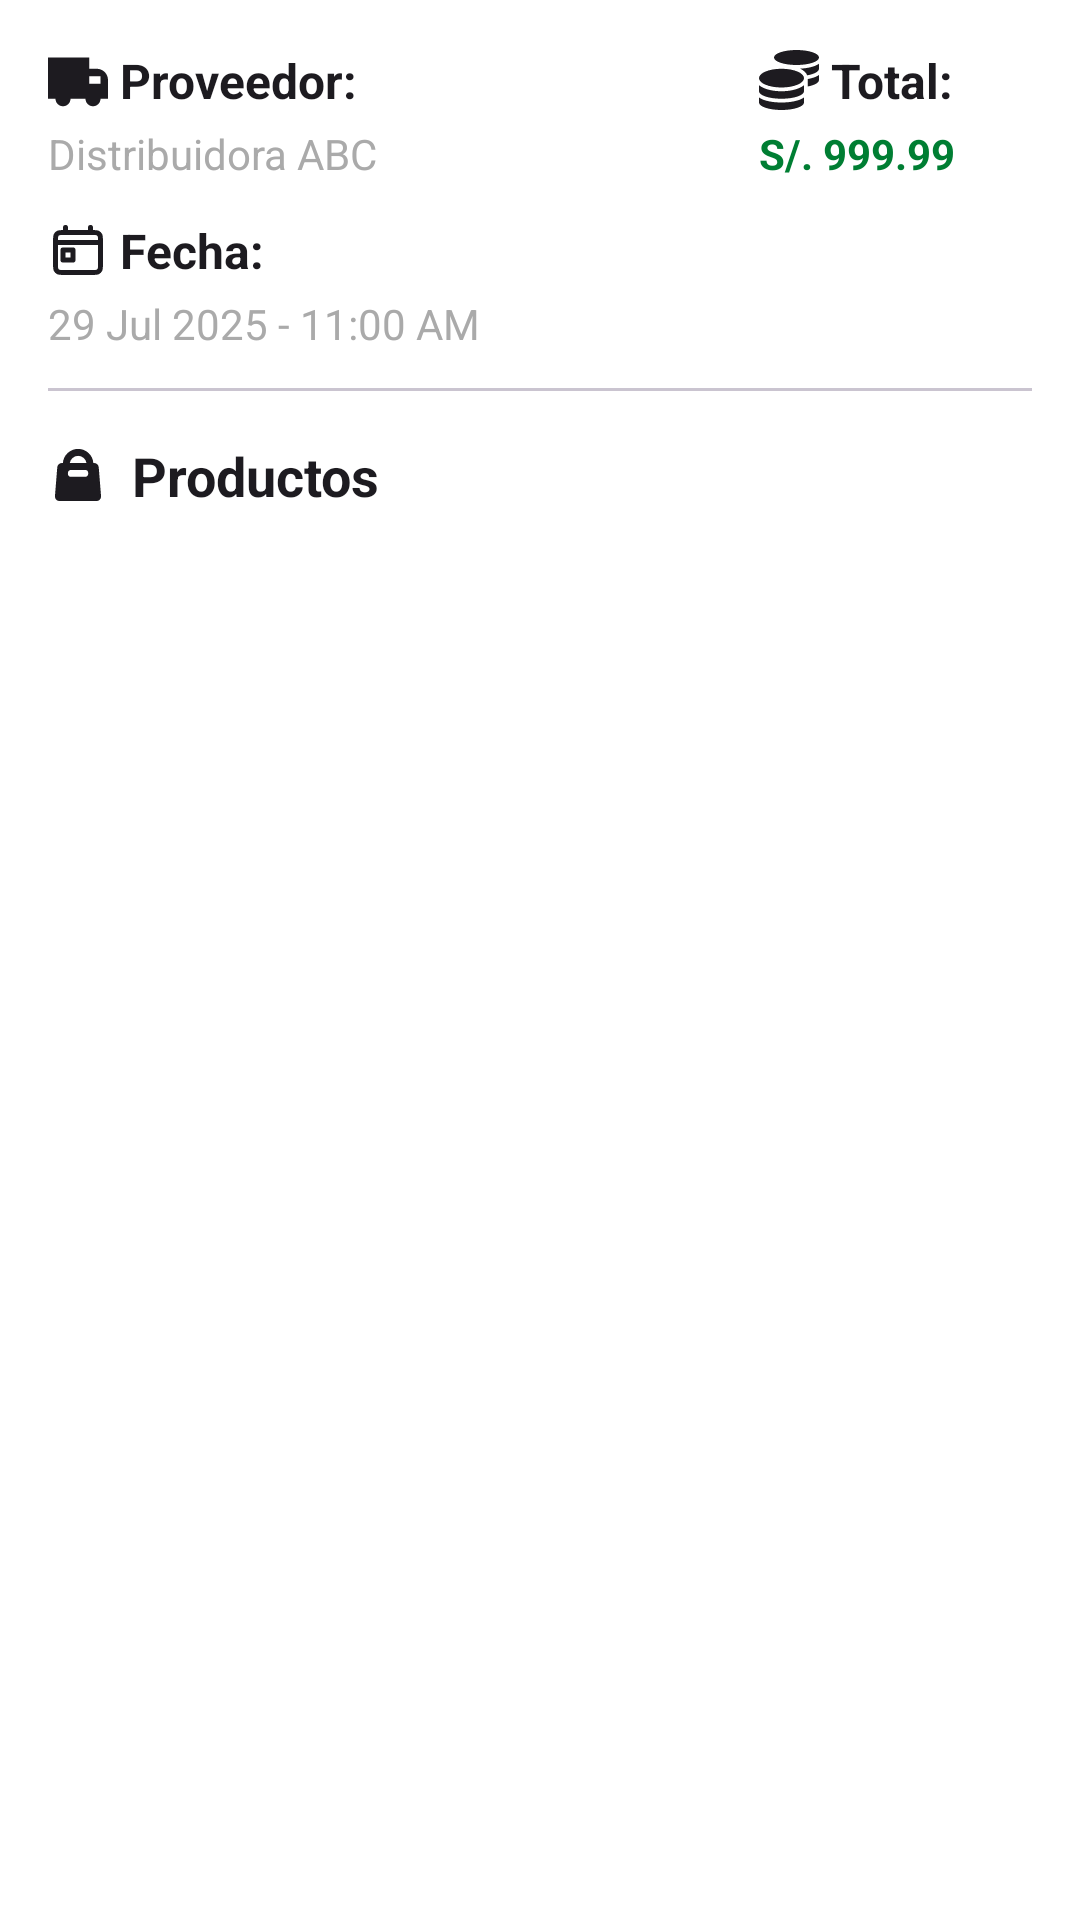

Named icons in this screenshot (1080px x 1920px) and their bounding boxes, [x1,y1,x2,y2]:
calendar: [53,225,103,275]
coin: [759,50,819,110]
shopping bag: [55,449,101,501]
truck: [48,57,108,107]
